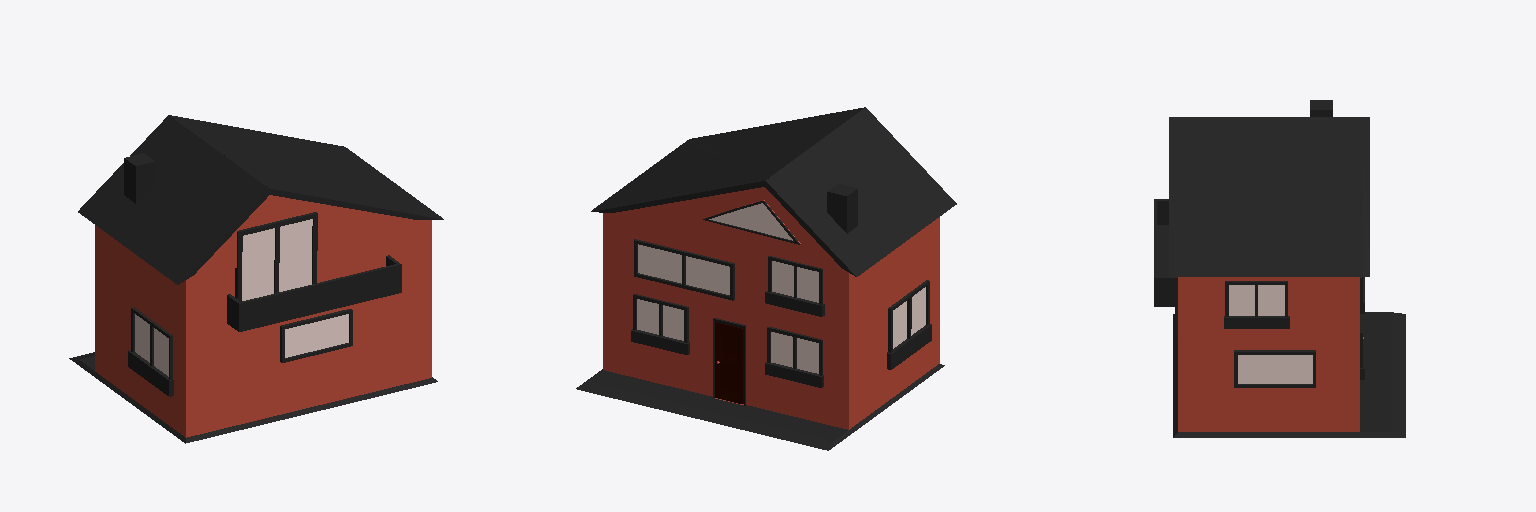
File: mediumhouse.obj
3 views of the same model, side by side, from view 1: azimuth 30°, elevation 25°; view 2: azimuth 150°, elevation 25°; view 3: azimuth 270°, elevation 25° (orthographic).
Visible parts, largest first — view 1: Cube.003; view 2: Cube.003; view 3: Cube.003.
Boxes of the visible parts, x1=… form: Cube.003: x1=69, y1=115, x2=443, y2=443; Cube.003: x1=576, y1=107, x2=956, y2=450; Cube.003: x1=1154, y1=100, x2=1405, y2=437.
Size of the model in its own units: 3.4 by 2.88 by 2.79.